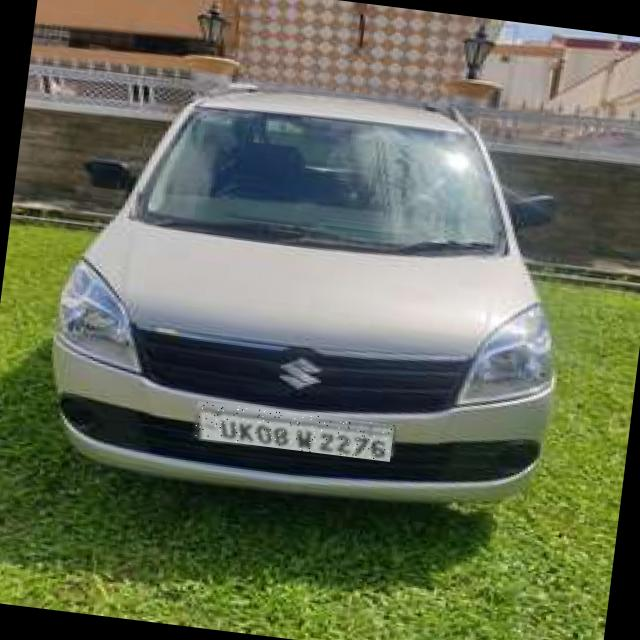Plate: (194, 402, 395, 463)
